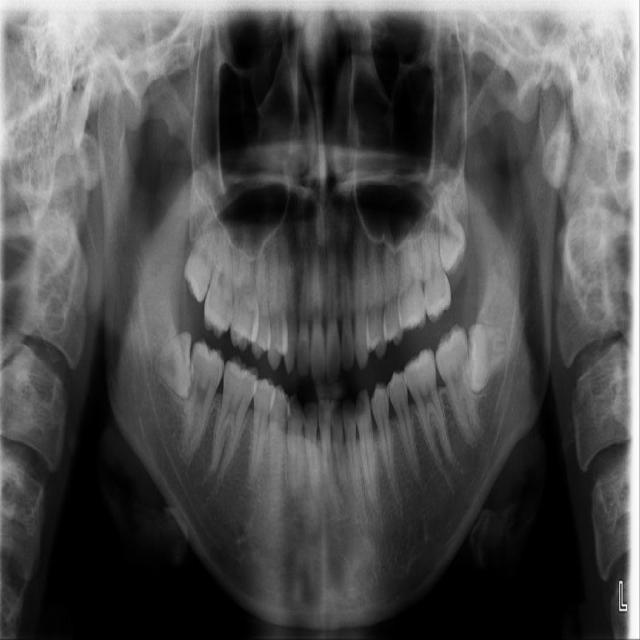impacted tooth: (185, 225, 223, 304), (468, 327, 514, 389), (151, 330, 193, 396), (436, 184, 468, 268)
